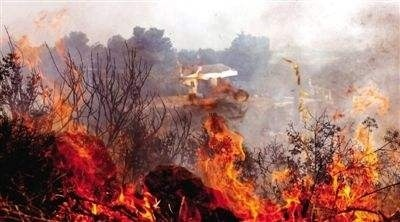fire: (1, 11, 153, 217)
